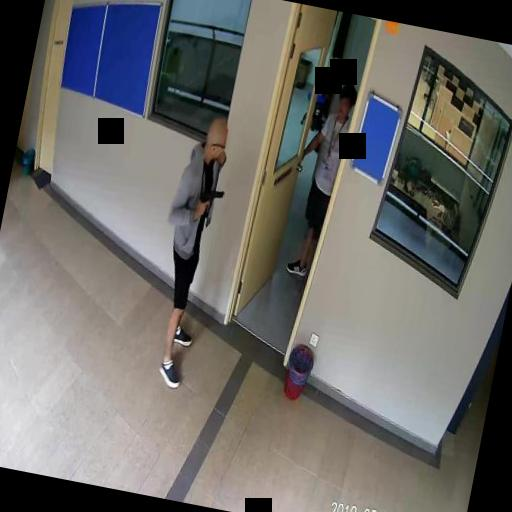Handgun: (197, 186, 224, 218)
